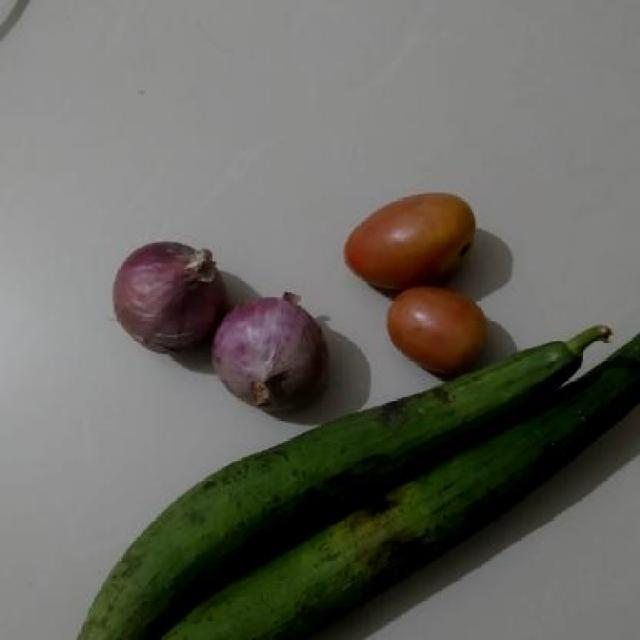onion: (104, 231, 236, 357), (215, 283, 332, 415)
tomato: (331, 178, 484, 292), (380, 280, 500, 375)
